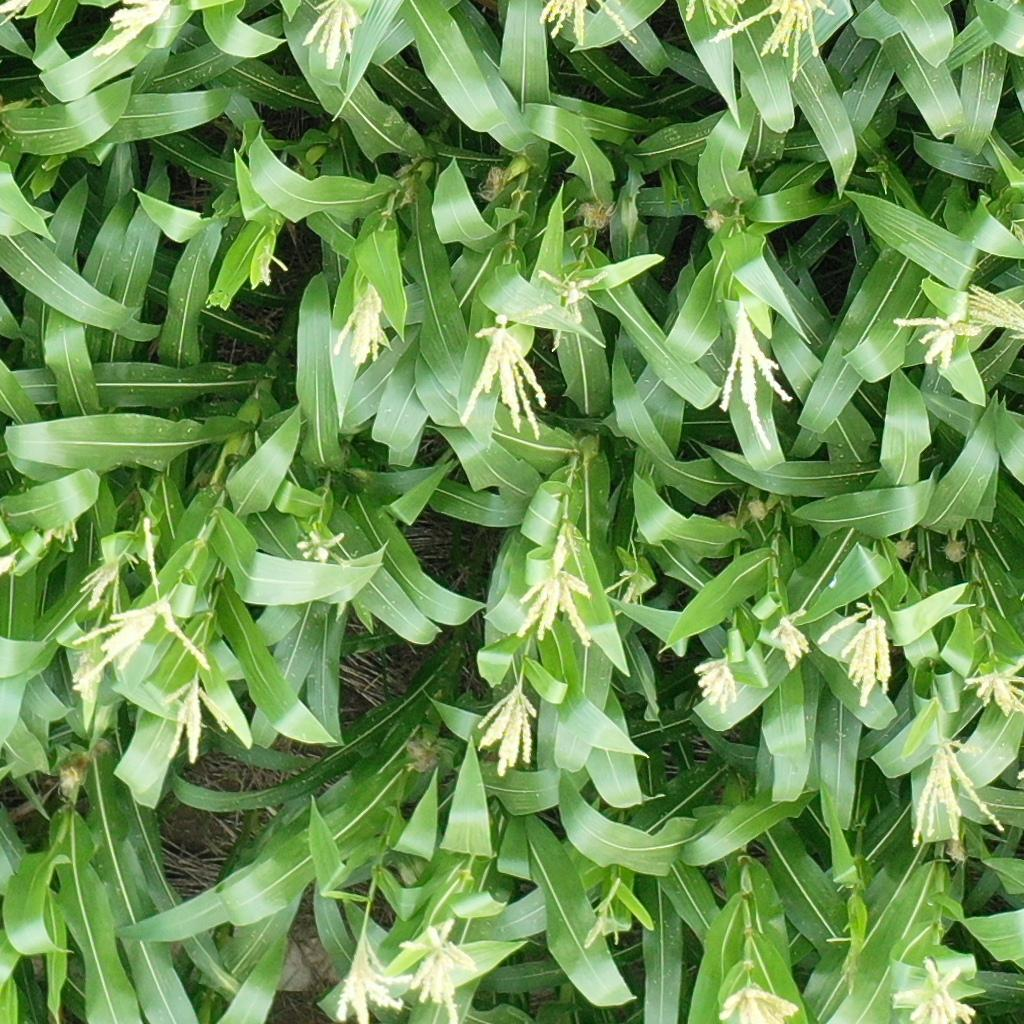Tassel: (63, 516, 212, 693), (461, 293, 549, 443), (910, 733, 1005, 857), (717, 305, 793, 455), (709, 1, 835, 82), (513, 525, 596, 647), (816, 599, 896, 712), (398, 916, 476, 1024), (333, 931, 414, 1024), (472, 680, 539, 778), (162, 675, 232, 766), (536, 265, 608, 352), (888, 956, 978, 1024), (894, 308, 981, 372), (537, 1, 638, 51), (330, 281, 390, 363), (296, 1, 363, 73), (92, 1, 174, 55), (79, 547, 138, 614), (962, 655, 1024, 718), (718, 980, 800, 1024), (574, 877, 622, 951), (966, 285, 1024, 342), (690, 655, 740, 716), (768, 608, 813, 671), (603, 567, 647, 623), (296, 524, 345, 566), (684, 1, 748, 30), (253, 243, 290, 290), (840, 941, 864, 998), (1, 1, 32, 22), (1009, 217, 1024, 244)
